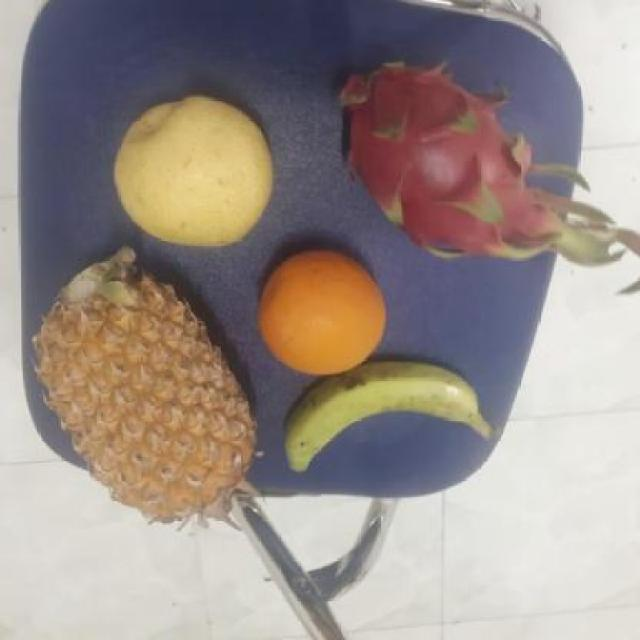banana: (272, 358, 486, 489)
dragon fruit: (326, 58, 546, 258)
oren: (250, 248, 388, 380)
pear: (108, 95, 277, 258)
pineapple: (29, 253, 254, 509)
